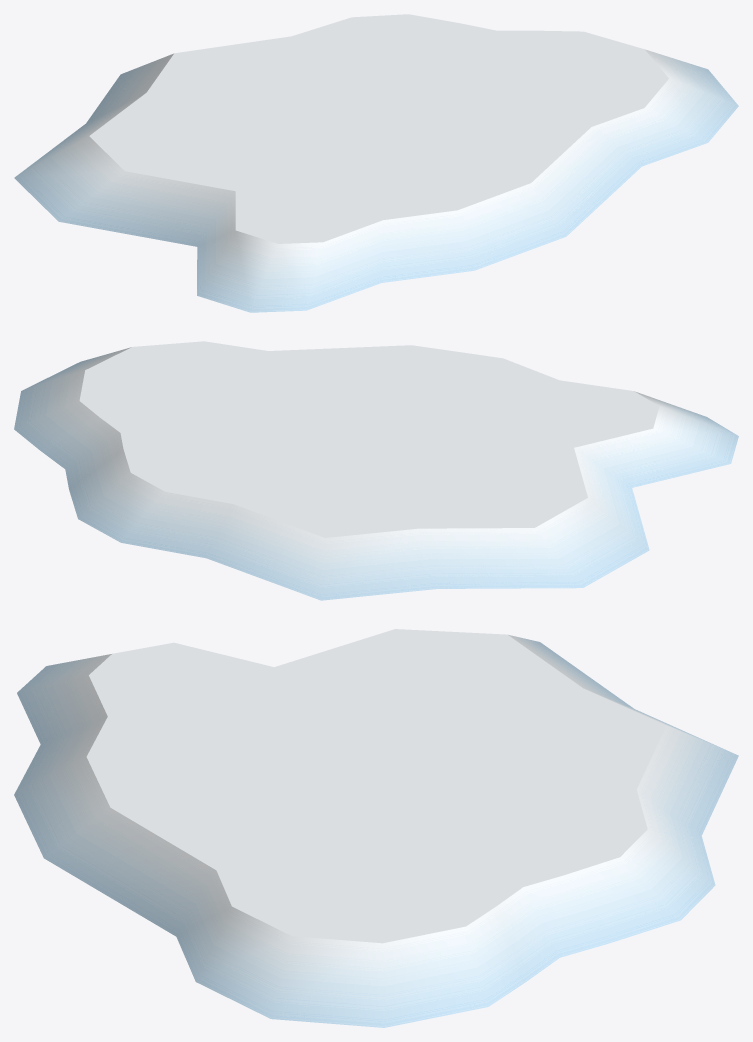
File: snow-flat.glb
3 views of the same model, one above another, from view 1: azimuth 30°, elevation 25°; view 2: azimuth 150°, elevation 25°; view 3: azimuth 270°, elevation 25° (orthographic). The views are drawn at different scales.
Visible parts, largest first — view 1: snow-flat; view 2: snow-flat; view 3: snow-flat.
Part boxes in pixels (x1,y1,x2,y2): snow-flat: (14,14,738,312); snow-flat: (14,341,738,600); snow-flat: (14,629,738,1027).
Size of the model in its own units: 5.57 by 0.3 by 4.34.
1 material, 1 textured.
